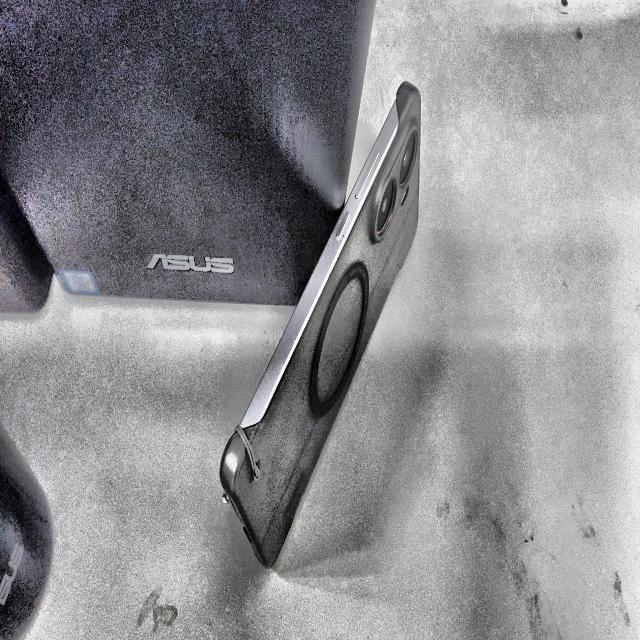PHONE: (220, 83, 421, 567)
